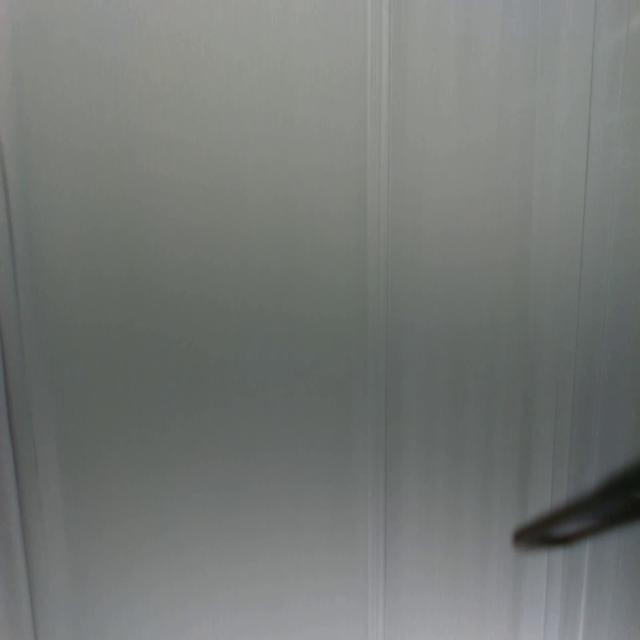crease: (364, 0, 395, 640), (565, 0, 598, 478), (0, 129, 41, 465), (0, 330, 37, 640), (549, 396, 560, 511), (538, 550, 552, 638)
